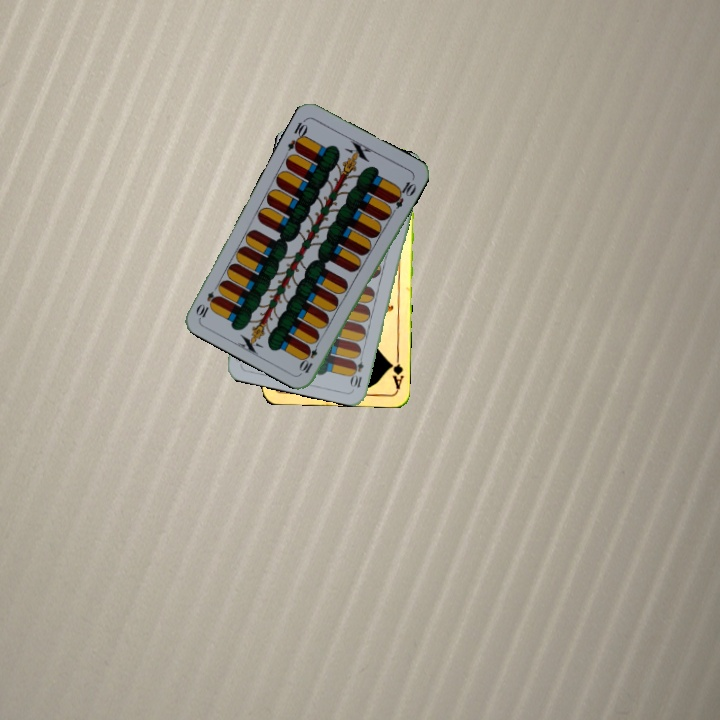E10: (283, 115, 311, 155), (297, 337, 322, 376), (348, 350, 367, 390)
GA: (386, 351, 406, 391)
